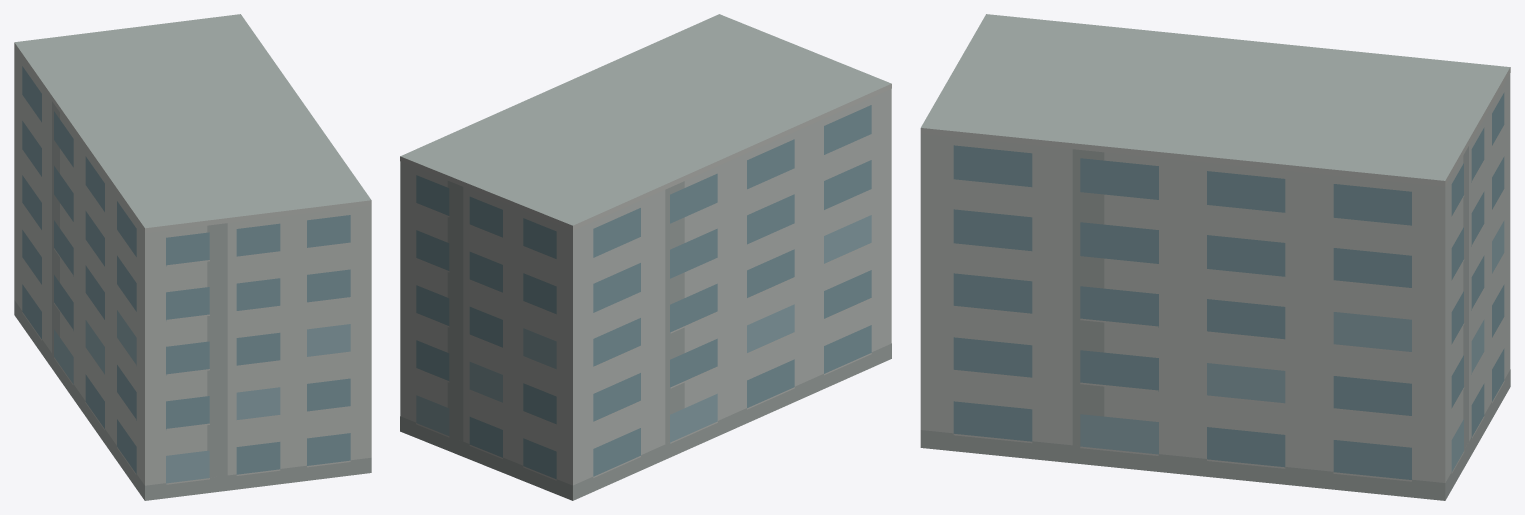
Rendered from survey-upis-32856102.glb.
3 renders of one model, left to right at view 1: azimuth 30°, elevation 25°; view 2: azimuth 150°, elevation 25°; view 3: azimuth 270°, elevation 25°, orthographic. The views are drawn at different scales.
Visible parts, largest first — view 1: survey-upis-32856102.tmp; view 2: survey-upis-32856102.tmp; view 3: survey-upis-32856102.tmp.
Boxes of the visible parts, x1=… form: survey-upis-32856102.tmp: x1=14, y1=14, x2=371, y2=500; survey-upis-32856102.tmp: x1=400, y1=14, x2=891, y2=500; survey-upis-32856102.tmp: x1=920, y1=14, x2=1510, y2=500.
Bounding box in the file's own units: 14.66 × 13.1 × 21.89.
